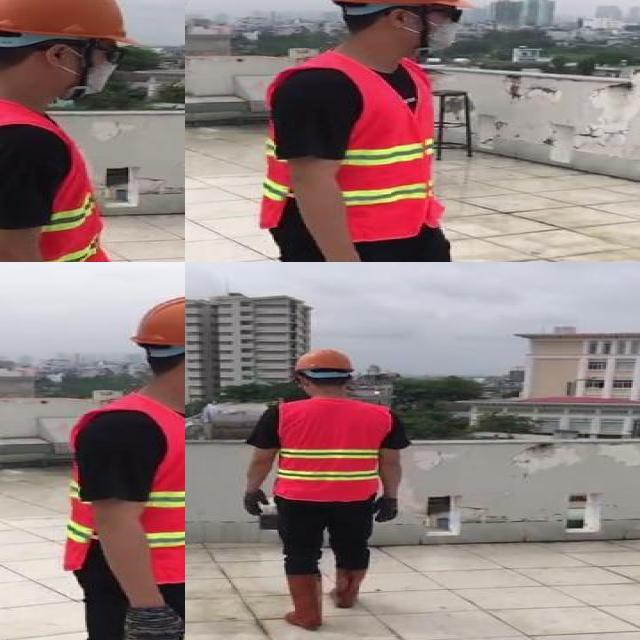boots: (283, 572, 327, 633), (331, 565, 366, 607)
face_mask: (400, 1, 466, 57)
hand_glove: (120, 605, 185, 640), (372, 498, 398, 524), (242, 490, 266, 518)
head_helmet: (0, 0, 132, 49), (129, 290, 185, 353), (290, 348, 354, 373)
person: (240, 0, 544, 262), (44, 286, 185, 640), (0, 0, 160, 262)
vest: (260, 51, 439, 238), (63, 393, 185, 580), (0, 94, 115, 262), (275, 399, 384, 501)
